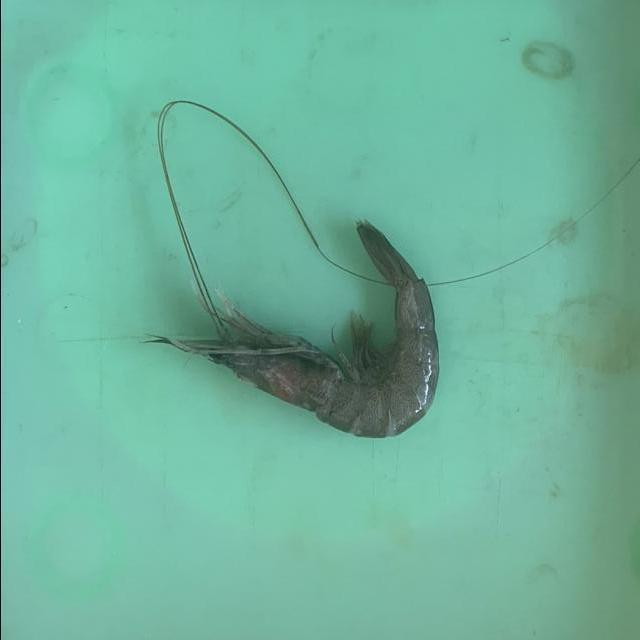shrimp: (151, 120, 438, 439)
